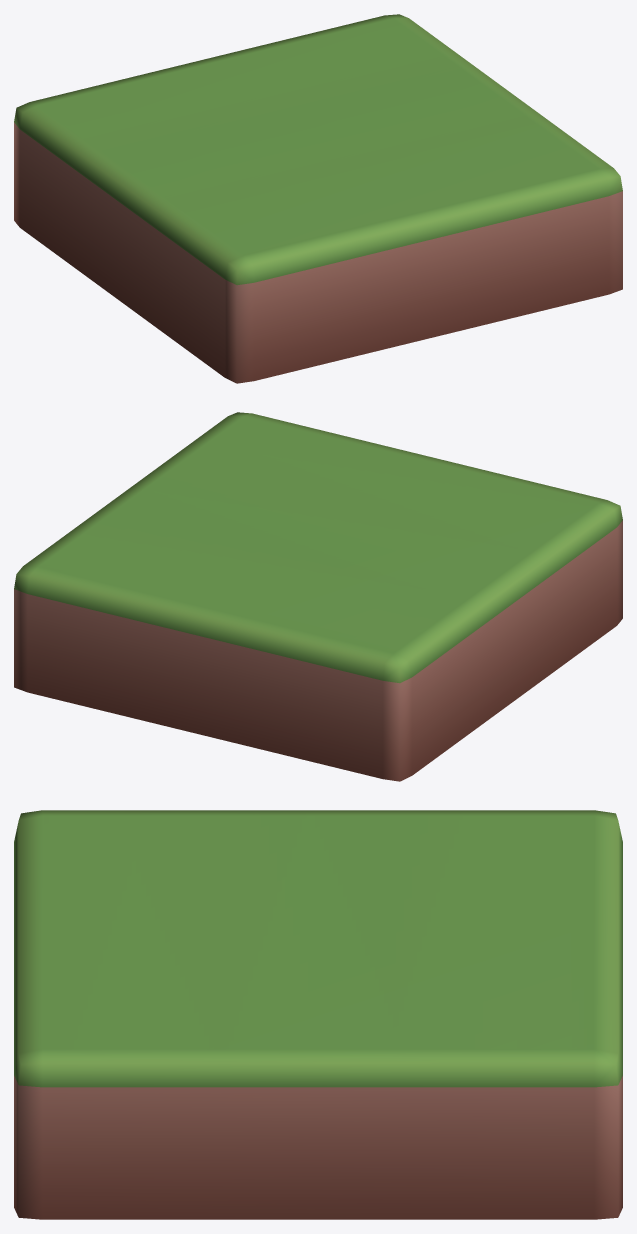
The model's file is Forest_Square.fbx.
The picture shows the model from 3 angles, top to bottom: view 1: azimuth 30°, elevation 25°; view 2: azimuth 150°, elevation 25°; view 3: azimuth 270°, elevation 25°; orthographic projection. The views are drawn at different scales.
Visible parts, largest first — view 1: Plane.062; view 2: Plane.062; view 3: Plane.062.
Part boxes in pixels (x1,y1,x2,y2): Plane.062: (14, 14, 622, 383); Plane.062: (14, 412, 622, 781); Plane.062: (14, 810, 622, 1219).
Bounding box in the file's own units: 176 × 50.47 × 176.
